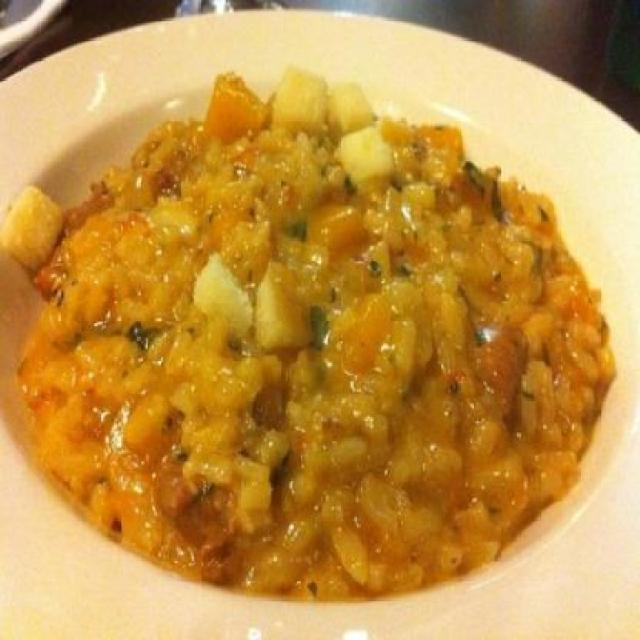Risotto: (30, 70, 601, 586)
